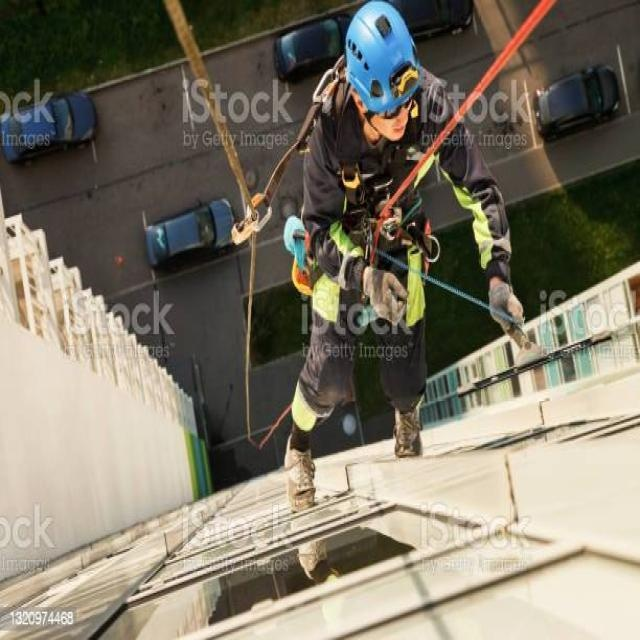Arnes_seguridad: (304, 52, 448, 333)
